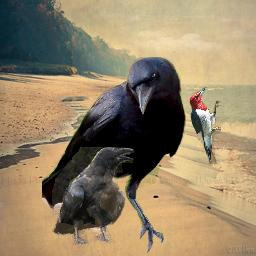Crow: (42, 57, 186, 254), (52, 147, 134, 245)
Woodpecker: (189, 87, 221, 164)
